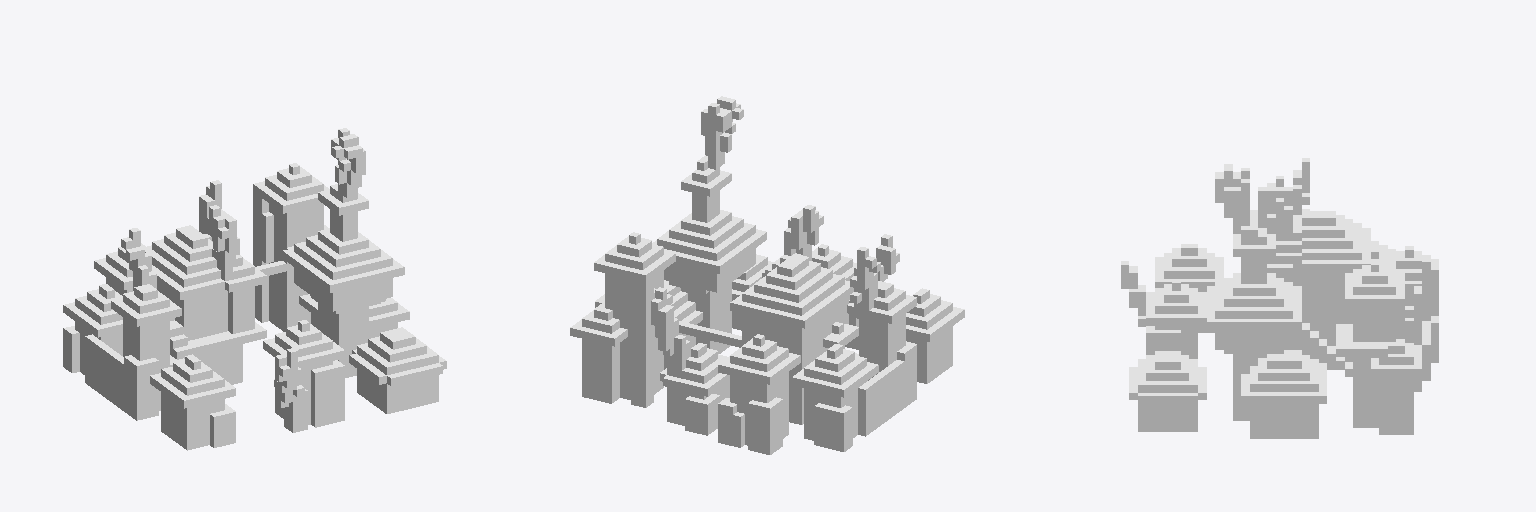
File: Town.obj
3 renders of one model, left to right at view 1: azimuth 30°, elevation 25°; view 2: azimuth 150°, elevation 25°; view 3: azimuth 270°, elevation 25°, orthographic.
Parts seen in each view (by area): view 1: object 1; view 2: object 1; view 3: object 1.
Part boxes in pixels (left/top/right/bottom): object 1: left=63, top=128, right=446, bottom=450; object 1: left=570, top=96, right=964, bottom=454; object 1: left=1121, top=158, right=1438, bottom=438.
Size of the model in its own units: 3.6 by 3.1 by 3.7.